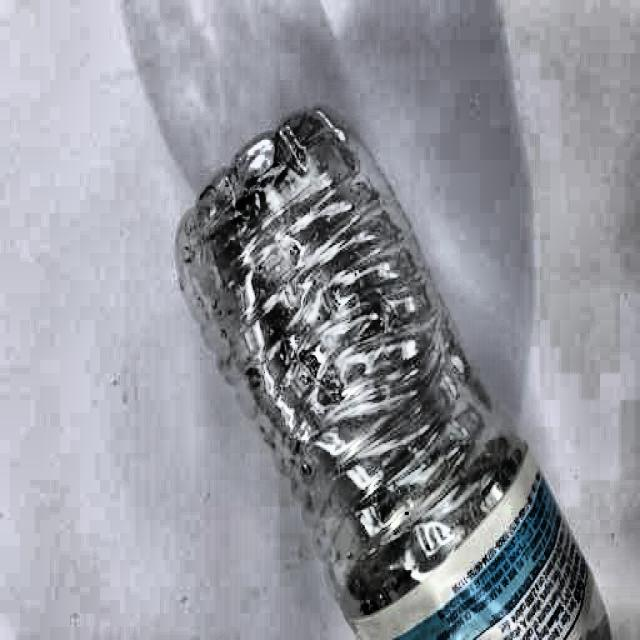plastic: (168, 105, 622, 640)
